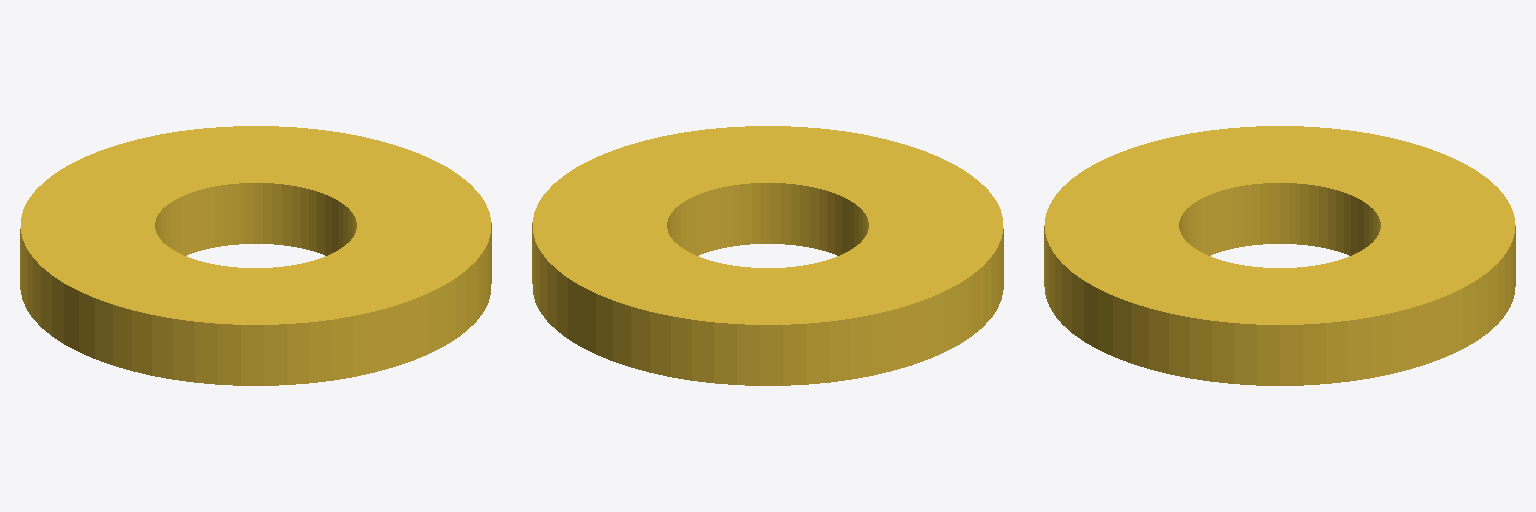
robot.urdf — disk1.urdf:
<?xml version="0.0" ?>
<robot name="disk1.urdf">
  <link name="baseLink">
    <contact>
      <lateral_friction value="1.0"/>
      <rolling_friction value="0.0001"/>
      <inertia_scaling value="3.0"/>
    </contact>
    <inertial>
      <origin rpy="0 0 0" xyz="0 0 0"/>
       <mass value=".1"/>
       <inertia ixx="1" ixy="0" ixz="0" iyy="1" iyz="0" izz="1"/>
    </inertial>
    <visual>
      <origin rpy="0 0 0" xyz="0 0 0"/>
      <geometry>
         <mesh filename="disk1.obj" scale="0.001 0.001 0.001"/>
      </geometry>
      <material name="yellow">
        <color rgba="0.92941176 0.78823529 0.28235294 1"/>
      </material>
    </visual>
    <collision>
      <origin rpy="0 0 0" xyz="0 0 0"/>
      <geometry>
	 	    <mesh filename="disk1.obj" scale="0.001 0.001 0.001"/>
      </geometry>
    </collision>
  </link>
</robot>

--- Facts derived from the render (not from the file) ---
The picture shows the robot from 3 angles, left to right: view 1: azimuth 30°, elevation 25°; view 2: azimuth 150°, elevation 25°; view 3: azimuth 270°, elevation 25°; orthographic projection.
Model disk1.urdf with 1 links and 0 joints (none), rooted at baseLink, posed every joint at zero.
Links seen in each view (by area): view 1: baseLink; view 2: baseLink; view 3: baseLink.
Link boxes in pixels (x1,y1,x2,y2): baseLink: (20,126,491,385); baseLink: (532,126,1003,385); baseLink: (1044,126,1515,385).
Size in the robot's own frame: 0.07 by 0.07 by 0.01 metres.
1 mesh visuals loaded from 1 distinct referenced files (1 OBJ).